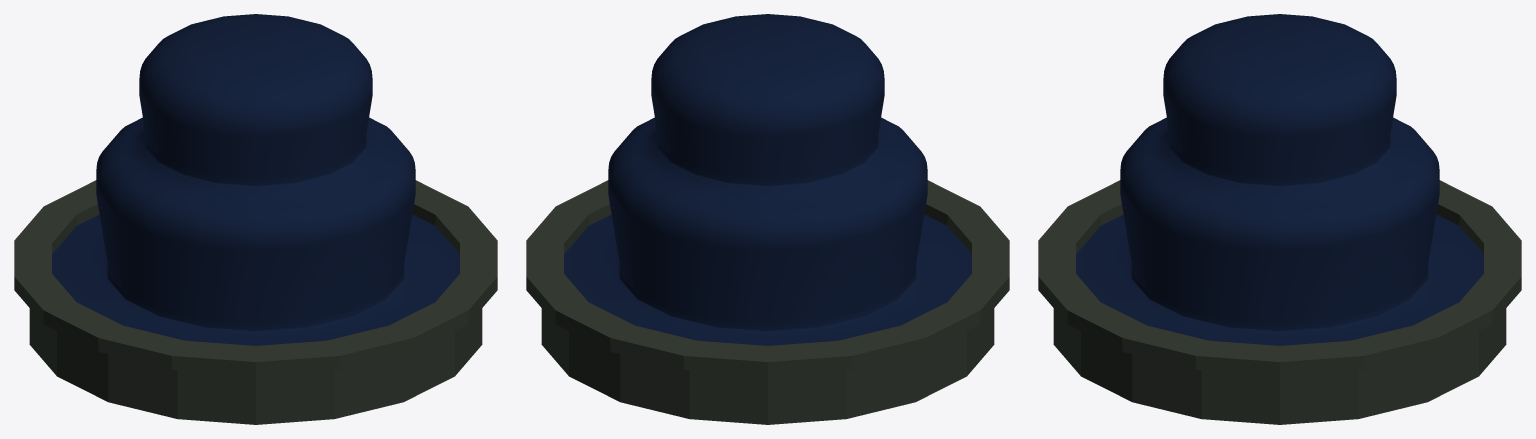
File: Fountain.fbx
3 views of the same model, side by side, from view 1: azimuth 30°, elevation 25°; view 2: azimuth 150°, elevation 25°; view 3: azimuth 270°, elevation 25° (orthographic).
Visible parts, largest first — view 1: Fountain_Water, Fountain_Base; view 2: Fountain_Water, Fountain_Base; view 3: Fountain_Water, Fountain_Base.
Part boxes in pixels (box(x1,y1,x2,y2)): Fountain_Water: box(52, 14, 459, 345); Fountain_Base: box(14, 180, 497, 424); Fountain_Water: box(564, 14, 971, 345); Fountain_Base: box(526, 180, 1009, 424); Fountain_Water: box(1076, 14, 1483, 345); Fountain_Base: box(1038, 180, 1521, 424).
Size of the model in its own units: 1602 by 1011 by 1577.
